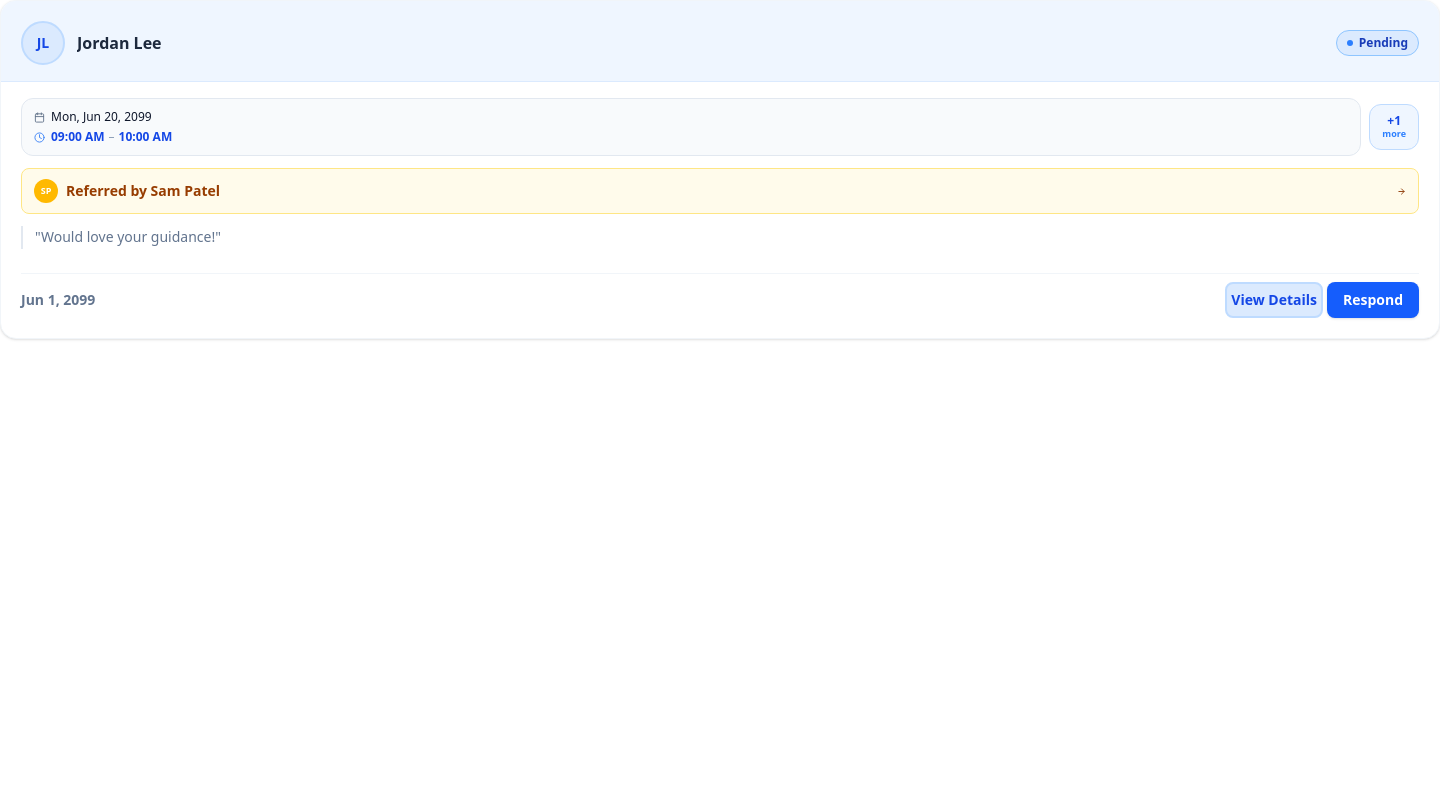
RequestCard Component Suite › should open the ReferredByProfileModal when the referred-by banner is clicked
Click the text "Referred by Sam Patel".
click(143, 190)  # box [66, 181, 220, 200]
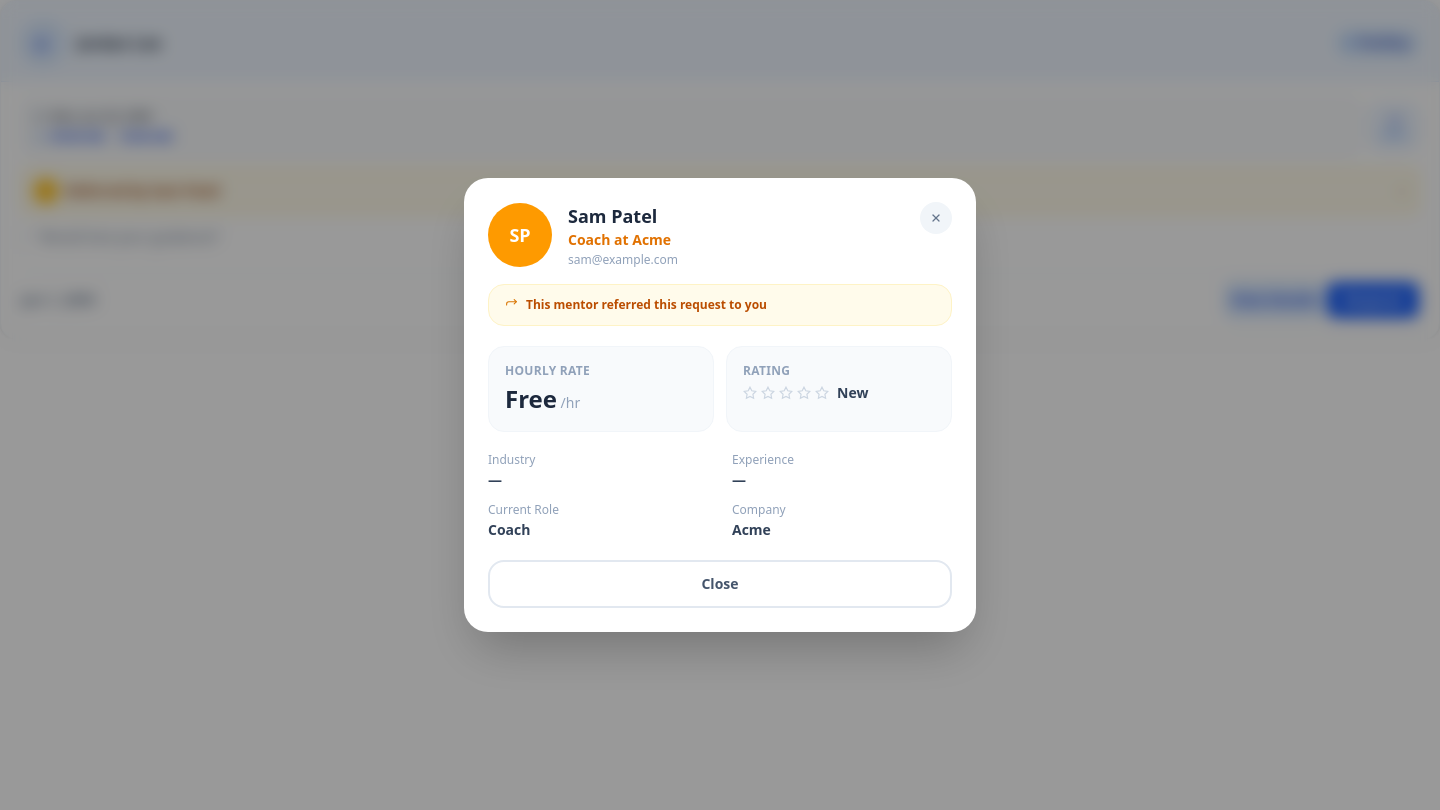
Expected: the text "This mentor referred this request to you" is shown, [526, 297, 767, 313]
